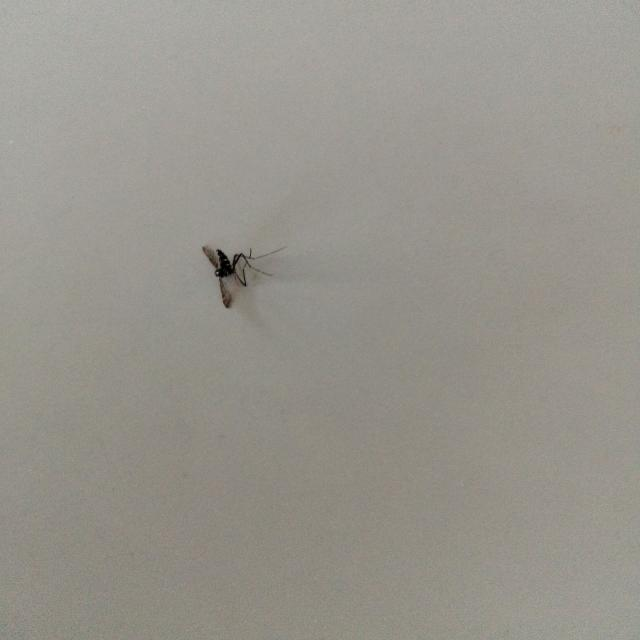albopictus: (190, 235, 292, 309)
